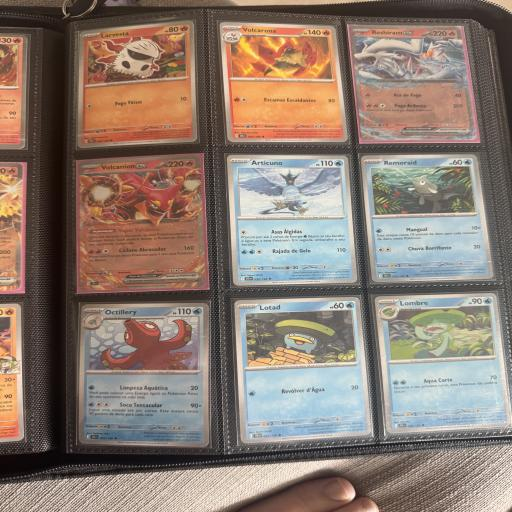card: (234, 292, 373, 445), (373, 284, 512, 437), (77, 299, 212, 447), (360, 143, 495, 290), (226, 149, 359, 289), (73, 155, 207, 293), (66, 20, 205, 153), (350, 14, 478, 151), (219, 22, 349, 143)
